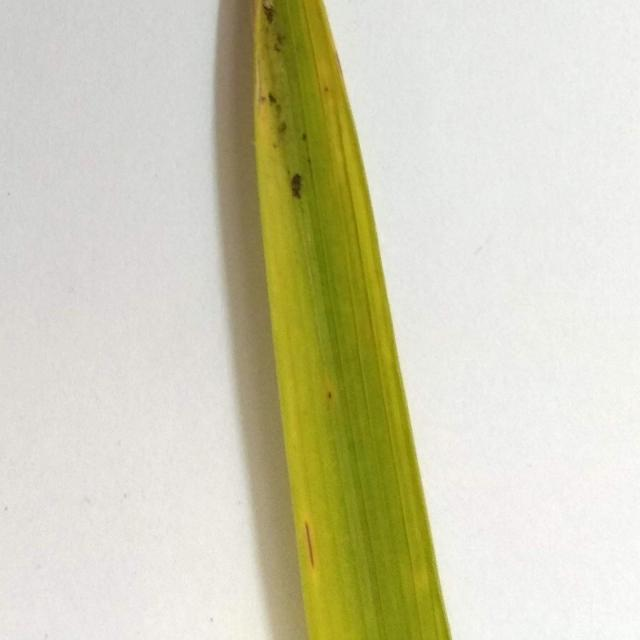Brown spot: (240, 0, 452, 640)
